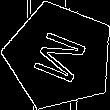M_E: (26, 26, 93, 87)
